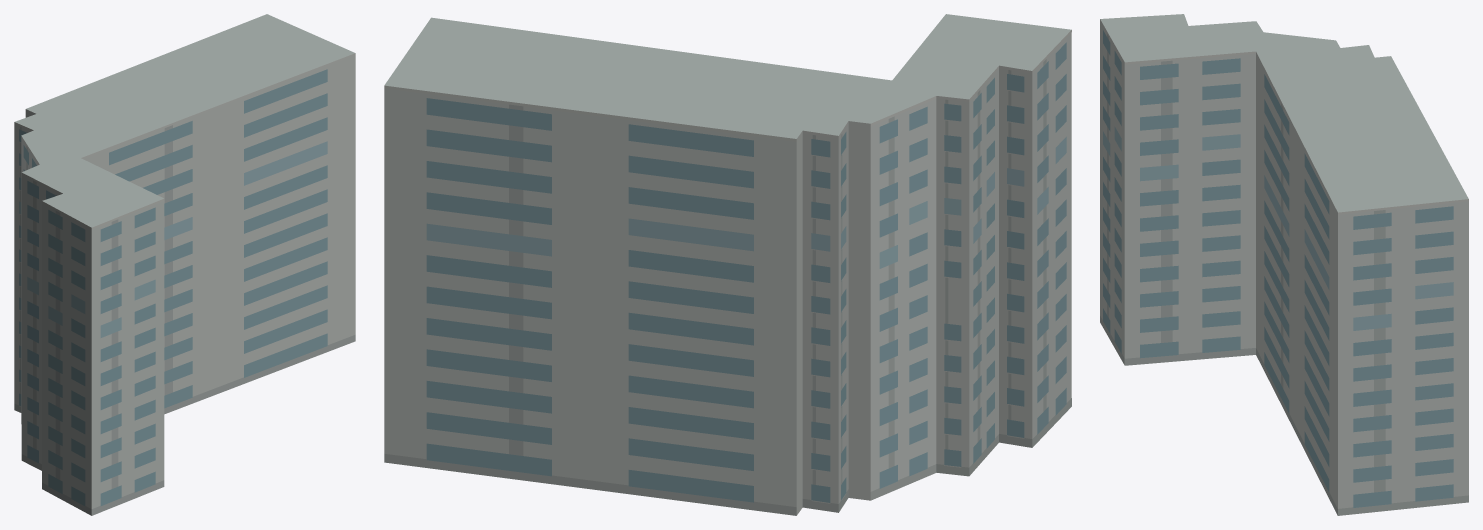
Rendered from residential-7cb25d87-fd46-43f4-b0bd-1fa2249acec7.glb.
3 views of the same model, side by side, from view 1: azimuth 30°, elevation 25°; view 2: azimuth 150°, elevation 25°; view 3: azimuth 270°, elevation 25° (orthographic). The views are drawn at different scales.
Visible parts, largest first — view 1: residential-7cb25d87-fd46-43f4-b0bd-1fa2249acec7.tmp; view 2: residential-7cb25d87-fd46-43f4-b0bd-1fa2249acec7.tmp; view 3: residential-7cb25d87-fd46-43f4-b0bd-1fa2249acec7.tmp.
Boxes of the visible parts, x1,y1,x2,y2 form: residential-7cb25d87-fd46-43f4-b0bd-1fa2249acec7.tmp: (14, 14, 355, 515); residential-7cb25d87-fd46-43f4-b0bd-1fa2249acec7.tmp: (384, 14, 1071, 515); residential-7cb25d87-fd46-43f4-b0bd-1fa2249acec7.tmp: (1100, 14, 1468, 515).
Bounding box in the file's own units: 46.33 × 33 × 36.37.
